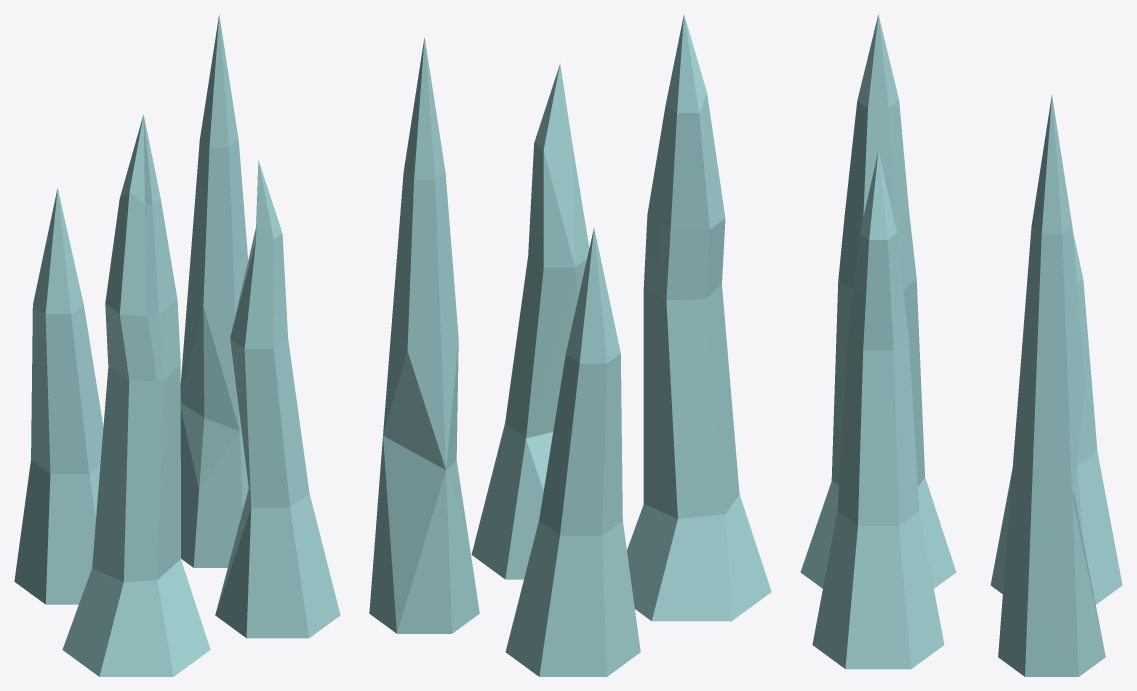
File: nature_stalags.fbx
The picture shows the model from 3 angles, left to right: view 1: azimuth 30°, elevation 25°; view 2: azimuth 150°, elevation 25°; view 3: azimuth 270°, elevation 25°; orthographic projection. The views are drawn at different scales.
Visible parts, largest first — view 1: nature_stalags; view 2: nature_stalags; view 3: nature_stalags.
Boxes of the visible parts, x1,y1,x2,y2 form: nature_stalags: [14, 14, 340, 676]; nature_stalags: [369, 14, 771, 676]; nature_stalags: [800, 14, 1122, 676].
Size of the model in its own units: 101 by 200 by 104.
